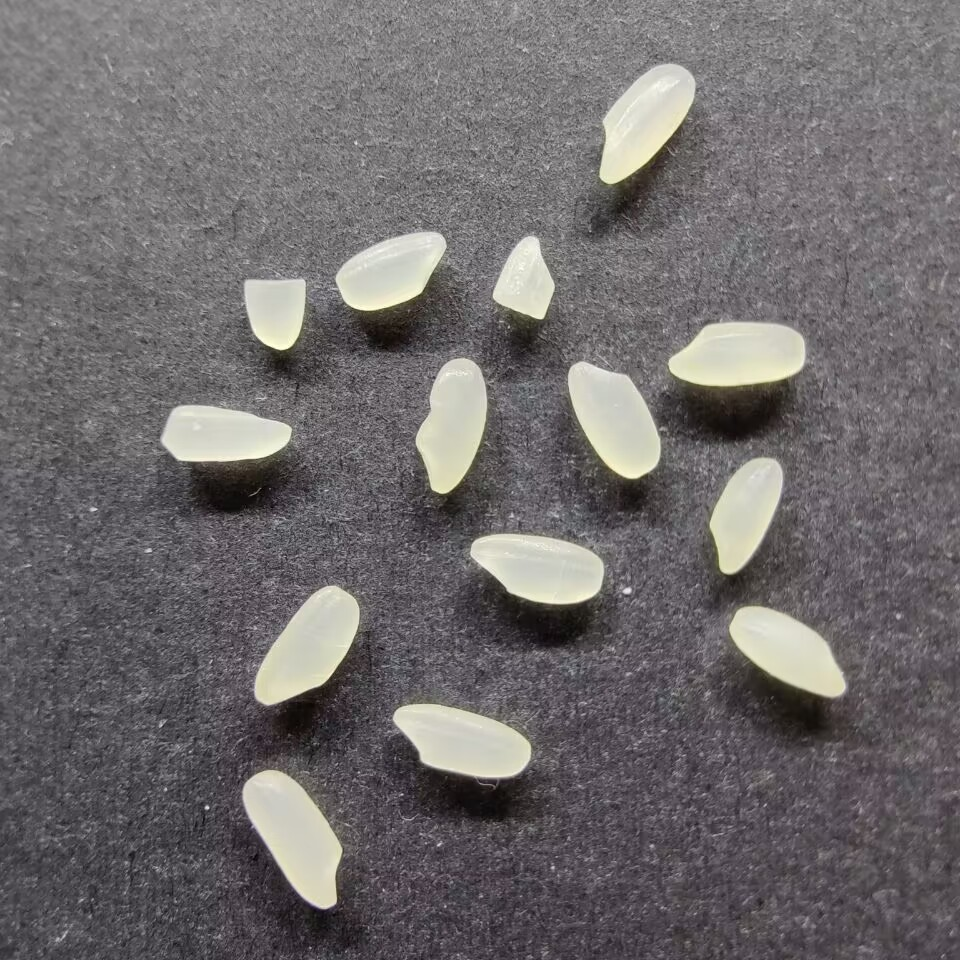broken: (491, 235, 555, 321), (241, 278, 307, 351)
rice: (241, 768, 342, 911), (253, 584, 361, 706), (597, 61, 696, 185), (566, 361, 662, 479), (728, 605, 847, 699), (392, 703, 531, 779), (413, 357, 487, 495), (469, 533, 605, 605), (667, 320, 806, 387), (334, 230, 447, 311), (707, 456, 783, 575), (160, 403, 293, 463)
